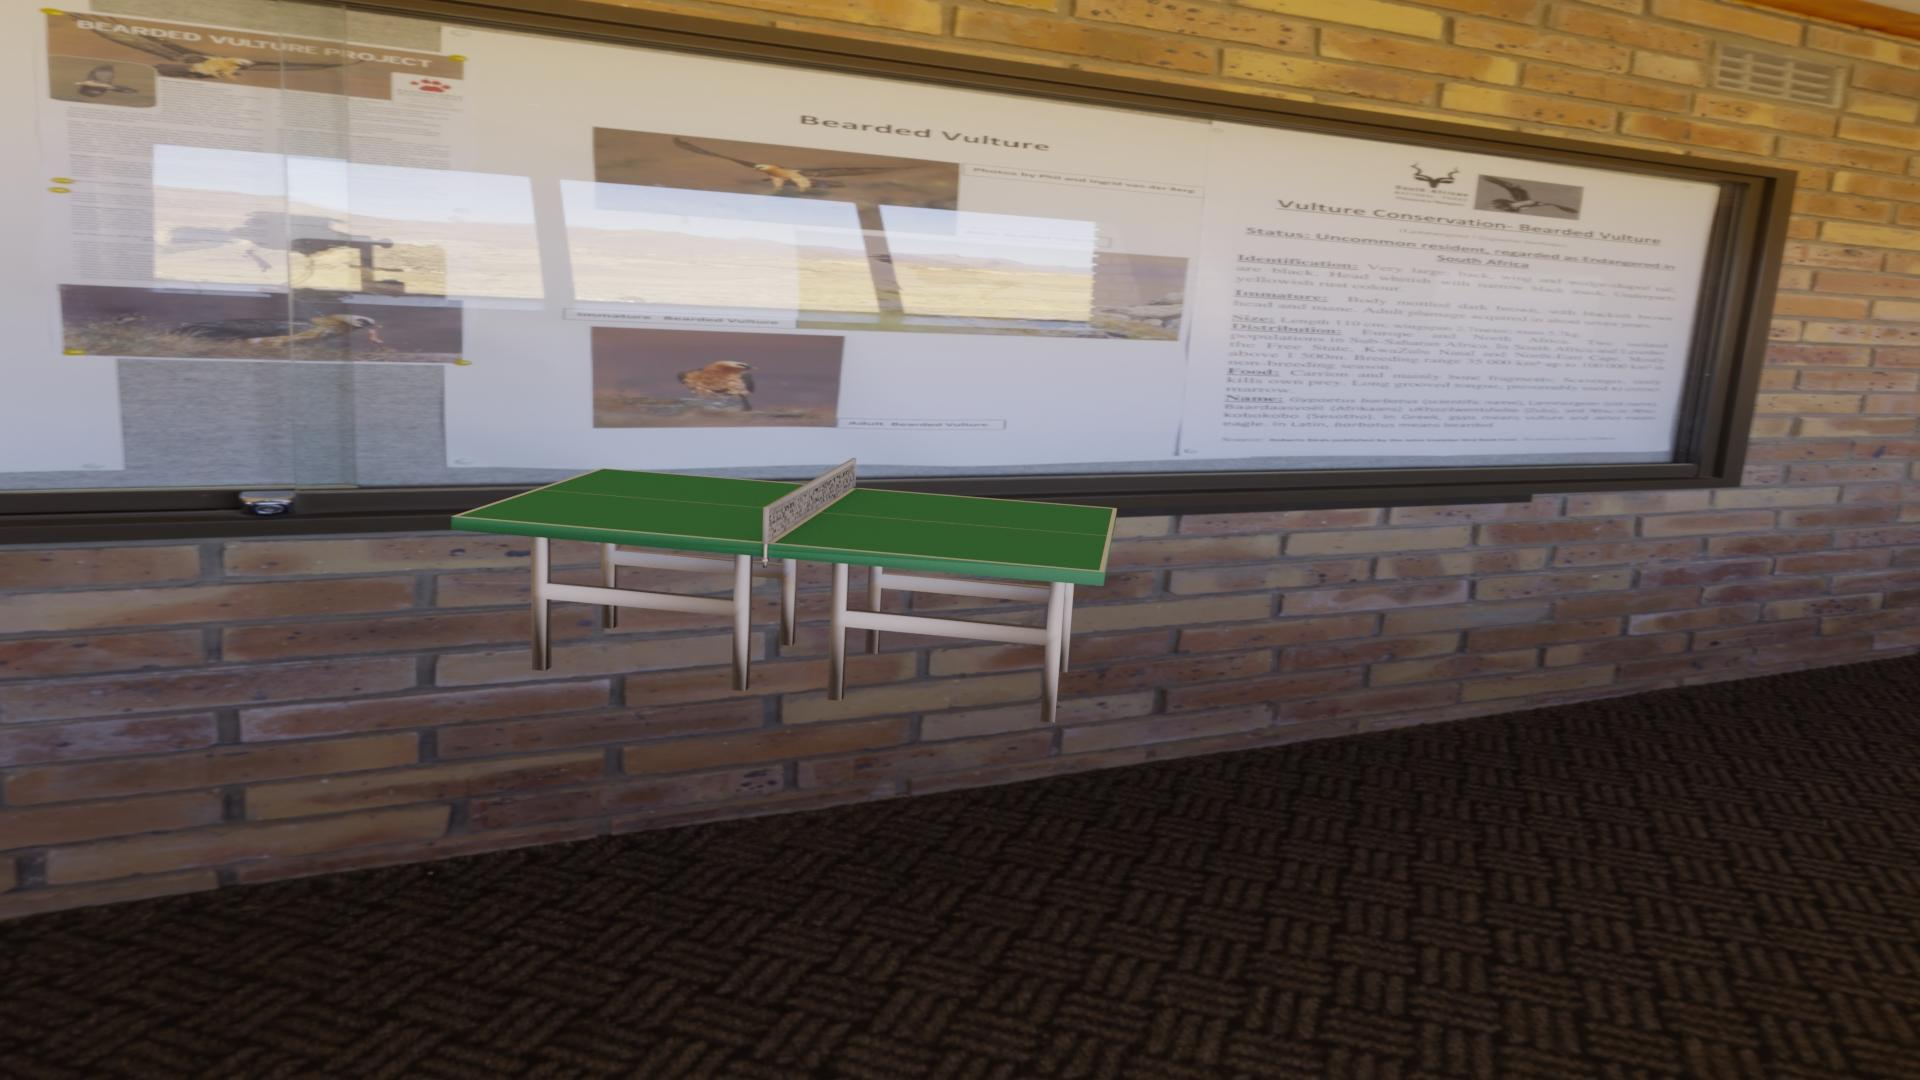table: (458, 468, 1113, 571)
